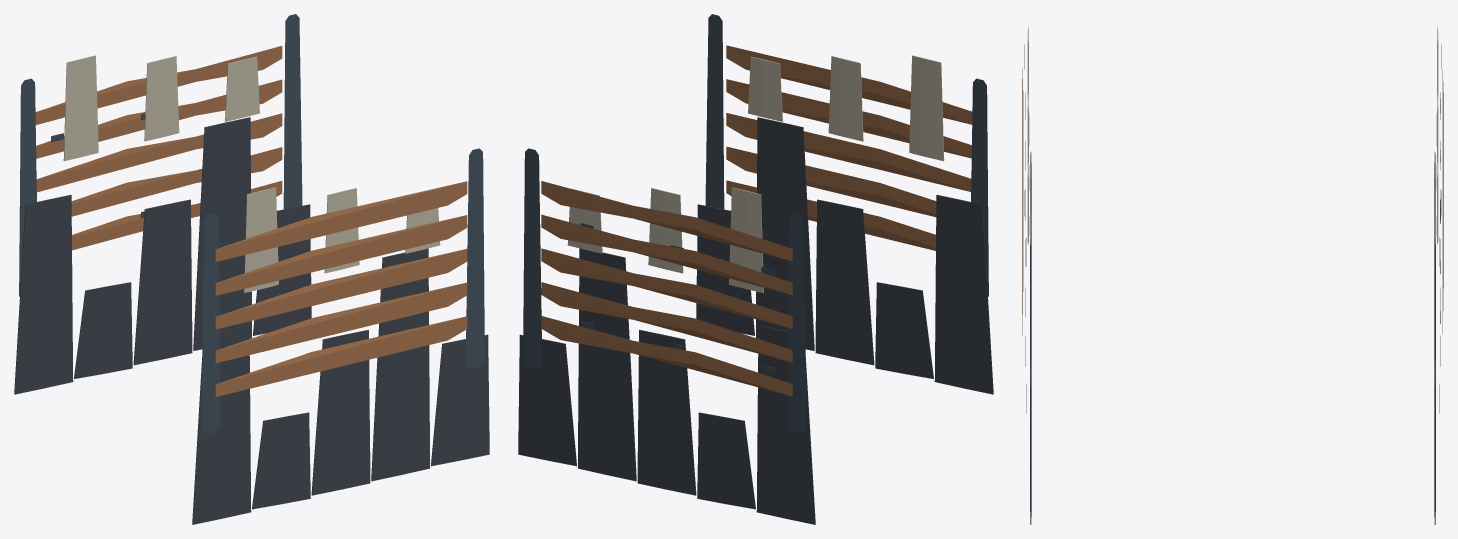
Rendered from emberline-ceramic-exhaust-0.glb.
3 renders of one model, left to right at view 1: azimuth 30°, elevation 25°; view 2: azimuth 150°, elevation 25°; view 3: azimuth 270°, elevation 25°, orthographic. The views are drawn at different scales.
Visible parts, largest first — view 1: emberline-ceramic-exhaust_LOD0; view 2: emberline-ceramic-exhaust_LOD0; view 3: emberline-ceramic-exhaust_LOD0.
Part boxes in pixels (box(x1,y1,x2,y2)): emberline-ceramic-exhaust_LOD0: box(14, 14, 489, 524); emberline-ceramic-exhaust_LOD0: box(518, 14, 993, 524); emberline-ceramic-exhaust_LOD0: box(1022, 26, 1443, 524).
Size of the model in its own units: 0.9218 by 0.9503 by 0.997.
4 materials, 4 textured.
